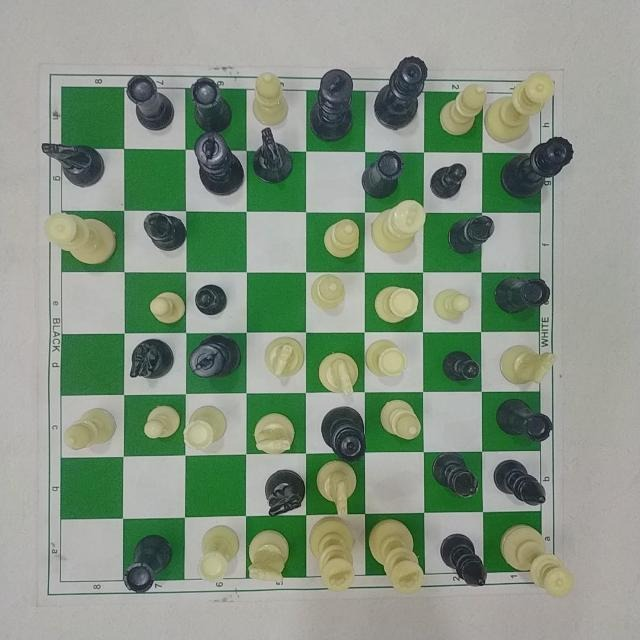black-bishop: (440, 526, 494, 592), (426, 448, 482, 506), (493, 457, 553, 509), (138, 207, 189, 254), (448, 212, 497, 254)
black-king: (304, 65, 364, 144), (191, 131, 245, 196), (186, 332, 247, 381)
black-knight: (36, 139, 114, 193), (251, 127, 303, 191), (264, 464, 308, 518), (127, 337, 174, 383)
black-pawn: (428, 161, 471, 205), (441, 346, 484, 383), (192, 279, 232, 318)
black-queen: (501, 134, 579, 200), (376, 53, 429, 137), (316, 404, 369, 463)
black-rook: (120, 526, 175, 594), (123, 70, 179, 135), (492, 395, 556, 444), (493, 270, 557, 316), (190, 72, 236, 131), (362, 150, 408, 200)
white-bishop: (59, 403, 123, 453), (244, 68, 292, 132), (441, 81, 487, 138), (380, 397, 424, 441), (327, 216, 365, 261), (309, 270, 351, 310)
white-king: (369, 514, 435, 597), (311, 518, 359, 592), (372, 197, 430, 252)
white-knight: (496, 340, 558, 390), (247, 525, 289, 588), (263, 331, 310, 387), (317, 343, 361, 397), (319, 459, 361, 515), (252, 408, 294, 456)
white-pawn: (427, 286, 477, 323), (148, 285, 186, 324), (142, 402, 180, 441)
white-queen: (496, 518, 579, 603), (490, 68, 558, 140), (42, 208, 122, 267)
white-rook: (192, 521, 244, 583), (183, 403, 231, 451), (371, 279, 420, 325), (363, 337, 411, 379)
